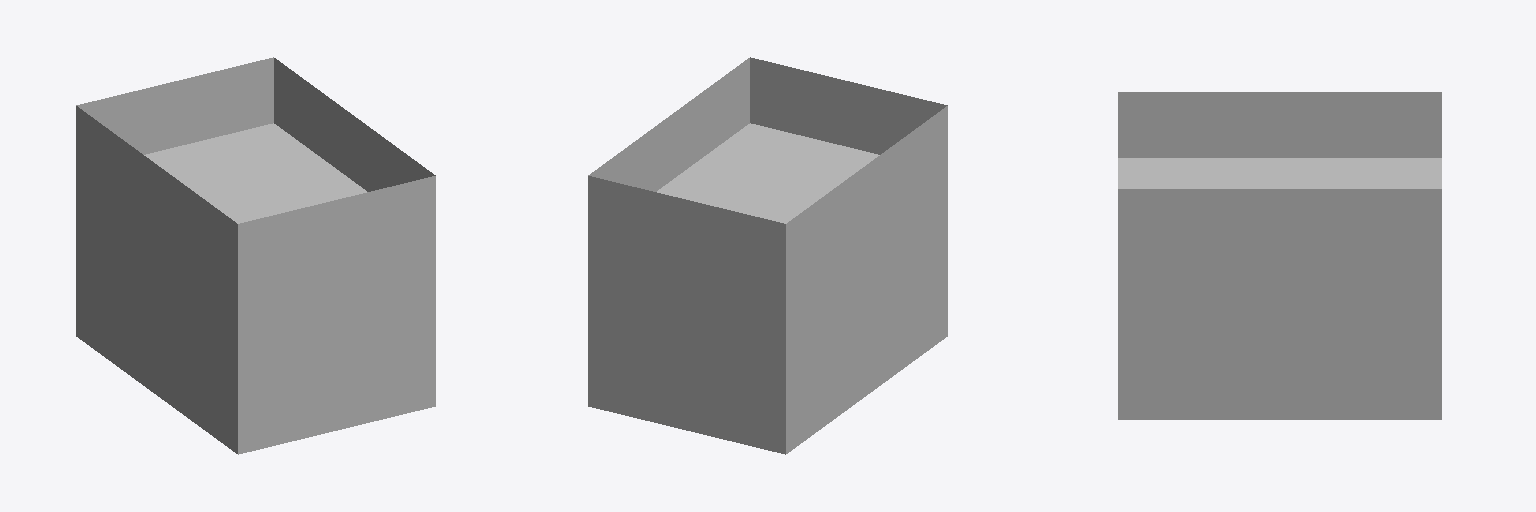
Rendered from elevator.obj.
3 renders of one model, left to right at view 1: azimuth 30°, elevation 25°; view 2: azimuth 150°, elevation 25°; view 3: azimuth 270°, elevation 25°, orthographic.
Parts seen in each view (by area): view 1: Elevator_Cube; view 2: Elevator_Cube; view 3: Elevator_Cube.
Part boxes in pixels (bbox=[...]): Elevator_Cube: bbox=[76, 57, 435, 454]; Elevator_Cube: bbox=[588, 57, 947, 454]; Elevator_Cube: bbox=[1118, 92, 1441, 419].
Size of the model in its own units: 6.28 by 7 by 8.9.